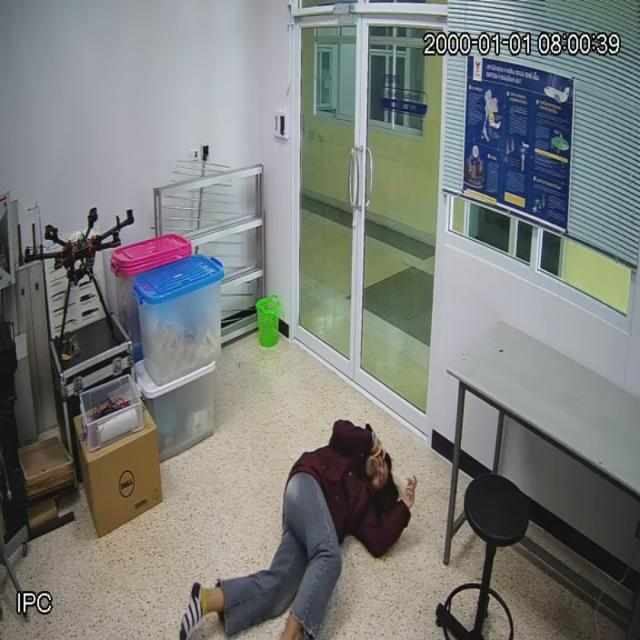fall: (180, 402, 411, 640)
